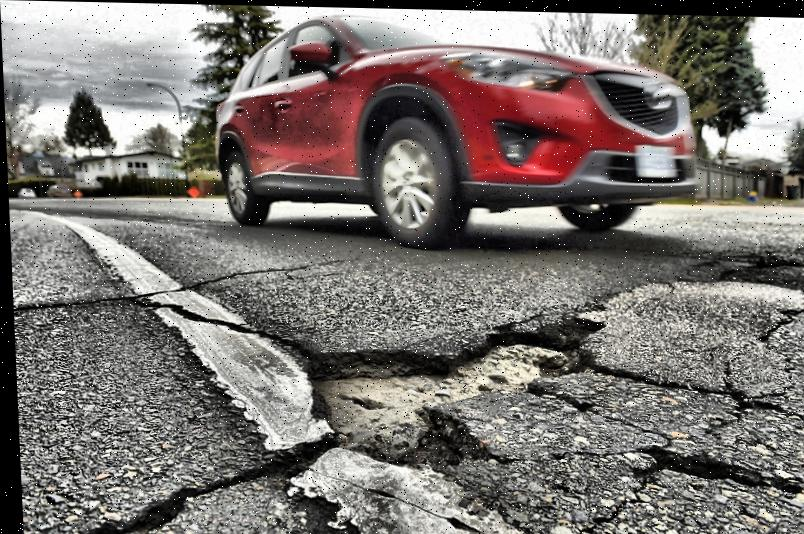pothole: (294, 313, 586, 461)
